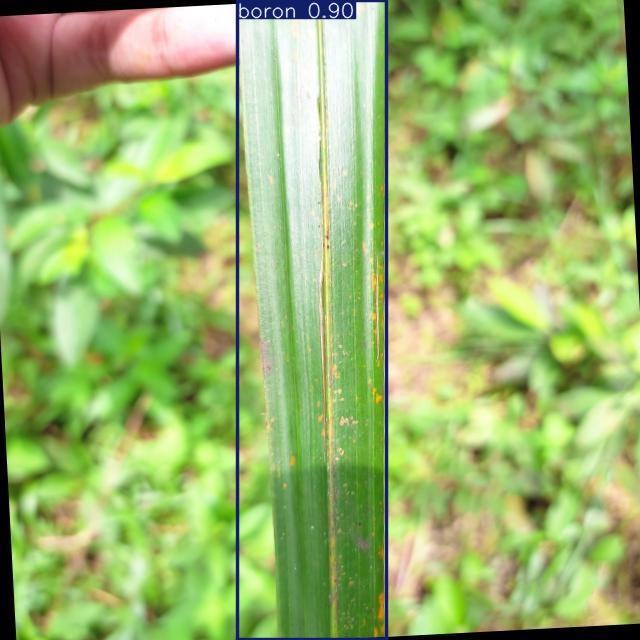nitrogen: (238, 0, 386, 639)
